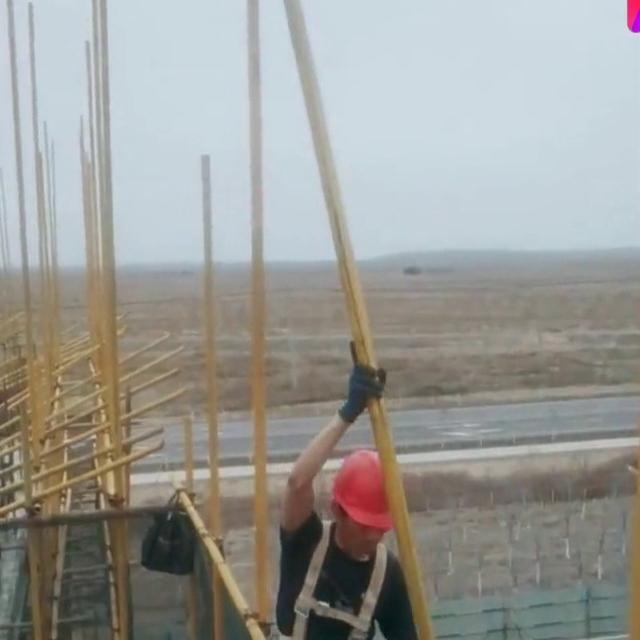Arnes_seguridad: (280, 514, 393, 638)
